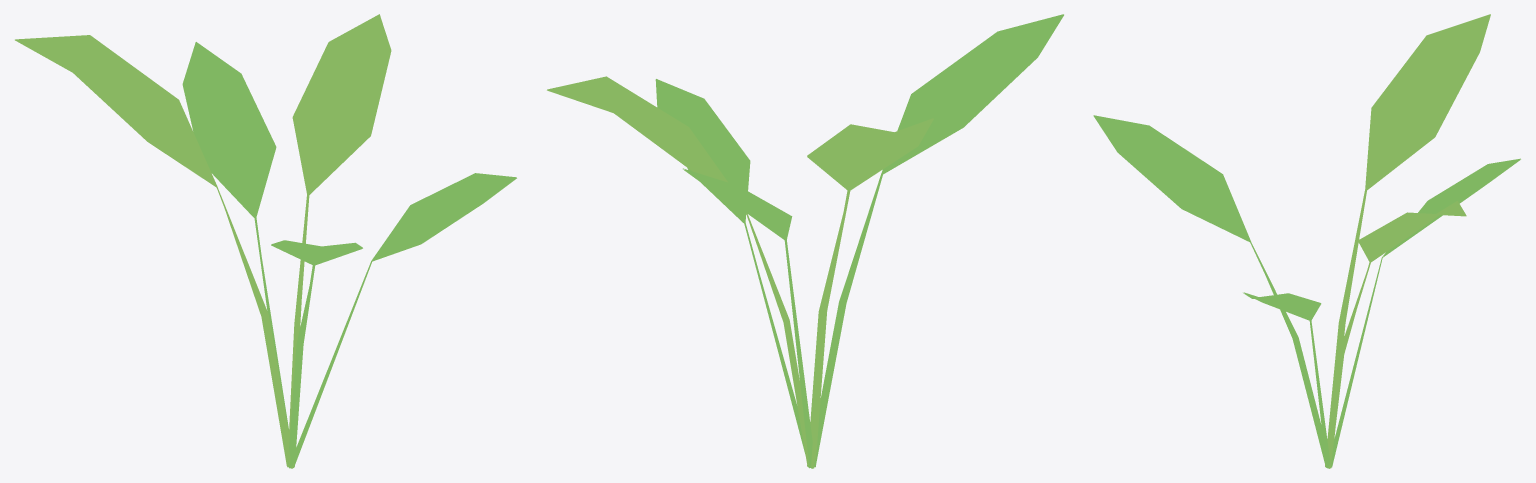
The model's file is Plant_j_TwoS_04.fbx.
3 views of the same model, side by side, from view 1: azimuth 30°, elevation 25°; view 2: azimuth 150°, elevation 25°; view 3: azimuth 270°, elevation 25° (orthographic). The views are drawn at different scales.
Visible parts, largest first — view 1: Plant_j_TwoS_04; view 2: Plant_j_TwoS_04; view 3: Plant_j_TwoS_04.
Part boxes in pixels (x1,y1,x2,y2): Plant_j_TwoS_04: (15,14,516,468); Plant_j_TwoS_04: (547,14,1063,468); Plant_j_TwoS_04: (1093,14,1520,468).
Size of the model in its own units: 0.5038 by 0.5296 by 0.5546.
